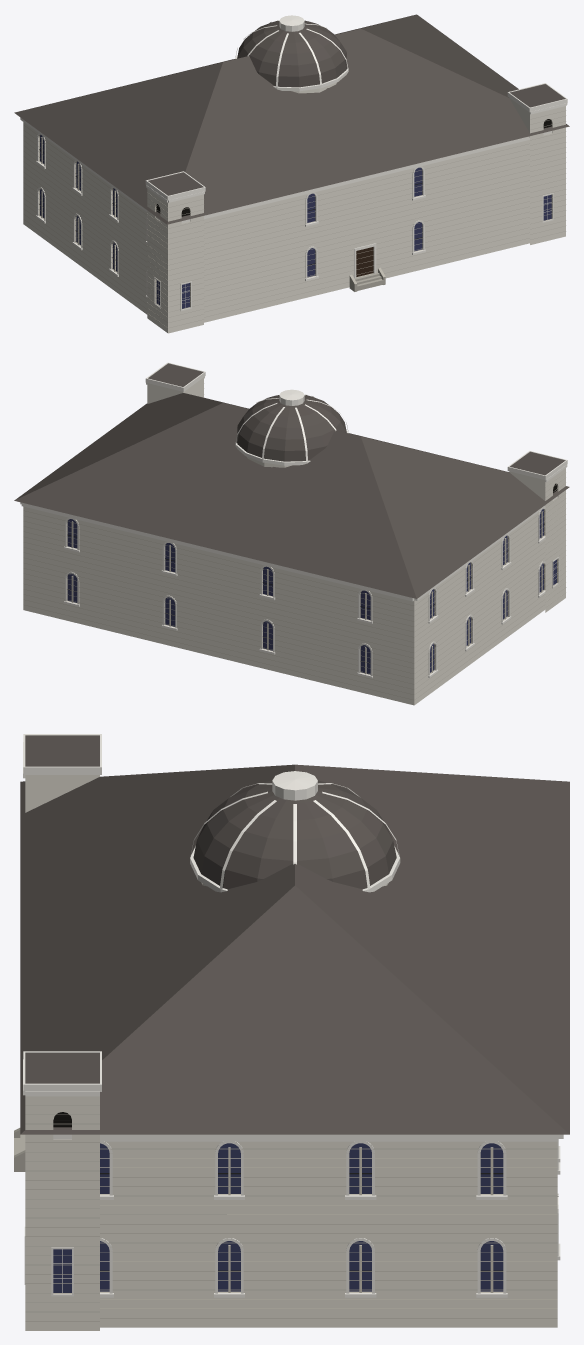
The model's file is ch-immanuel-baptist-1913.glb.
3 views of the same model, one above another, from view 1: azimuth 30°, elevation 25°; view 2: azimuth 150°, elevation 25°; view 3: azimuth 270°, elevation 25° (orthographic). The views are drawn at different scales.
Visible parts, largest first — view 1: ch_brick, ch_roof, ch_brick2, ch_trim, ch_roof2, ch_stain, ch_conc, ch_door; view 2: ch_roof, ch_brick, ch_brick2, ch_trim, ch_roof2, ch_stain, ch_trc; view 3: ch_roof, ch_brick, ch_roof2, ch_trim, ch_brick2, ch_stain, ch_trc.
Part boxes in pixels (x1,y1,x2,y2): ch_brick: [23, 82, 565, 333]; ch_roof: [14, 14, 569, 224]; ch_brick2: [23, 110, 565, 328]; ch_trim: [20, 15, 567, 311]; ch_roof2: [148, 20, 565, 195]; ch_stain: [40, 135, 551, 308]; ch_conc: [349, 267, 385, 291]; ch_door: [356, 247, 373, 276]; ch_roof: [14, 393, 569, 598]; ch_brick: [23, 377, 565, 705]; ch_brick2: [23, 472, 566, 699]; ch_trim: [20, 362, 567, 678]; ch_roof2: [148, 363, 565, 475]; ch_stain: [67, 509, 556, 674]; ch_trc: [71, 511, 542, 674]; ch_roof: [20, 764, 569, 1134]; ch_brick: [25, 775, 557, 1330]; ch_roof2: [25, 735, 396, 1083]; ch_trim: [23, 734, 563, 1297]; ch_brick2: [25, 1105, 557, 1321]; ch_stain: [53, 1143, 503, 1292]; ch_trc: [228, 1147, 493, 1292].
Bounding box in the file's own units: 40.27 × 20.14 × 26.8.
